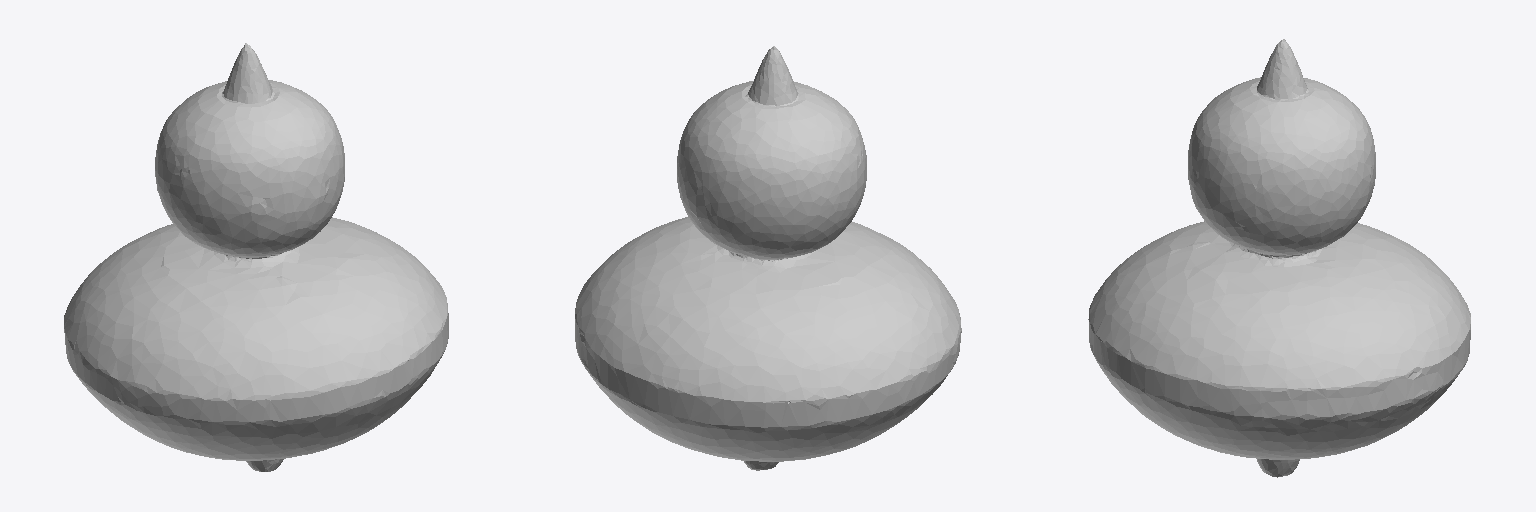
Rendered from nrcc_top.obj.
The picture shows the model from 3 angles: view 1: azimuth 30°, elevation 25°; view 2: azimuth 150°, elevation 25°; view 3: azimuth 270°, elevation 25°; orthographic projection.
Size of the model in its own units: 1.64 by 2 by 1.63.